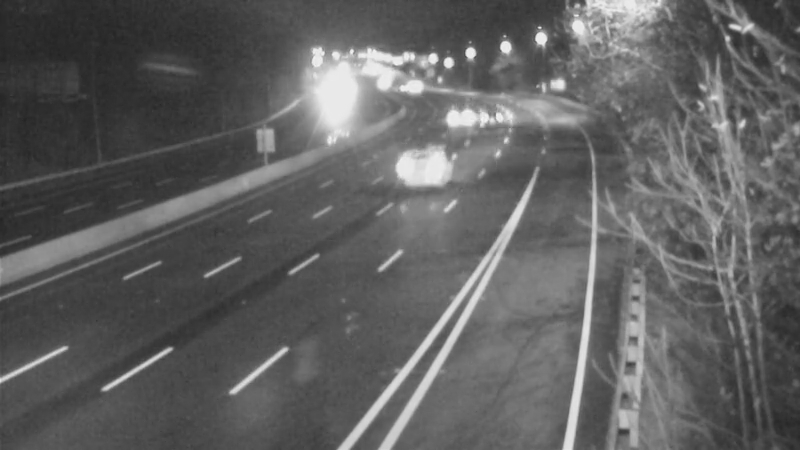vehicle: (391, 127, 471, 207), (384, 61, 434, 111), (371, 63, 421, 113), (434, 89, 484, 139), (464, 96, 514, 146)
